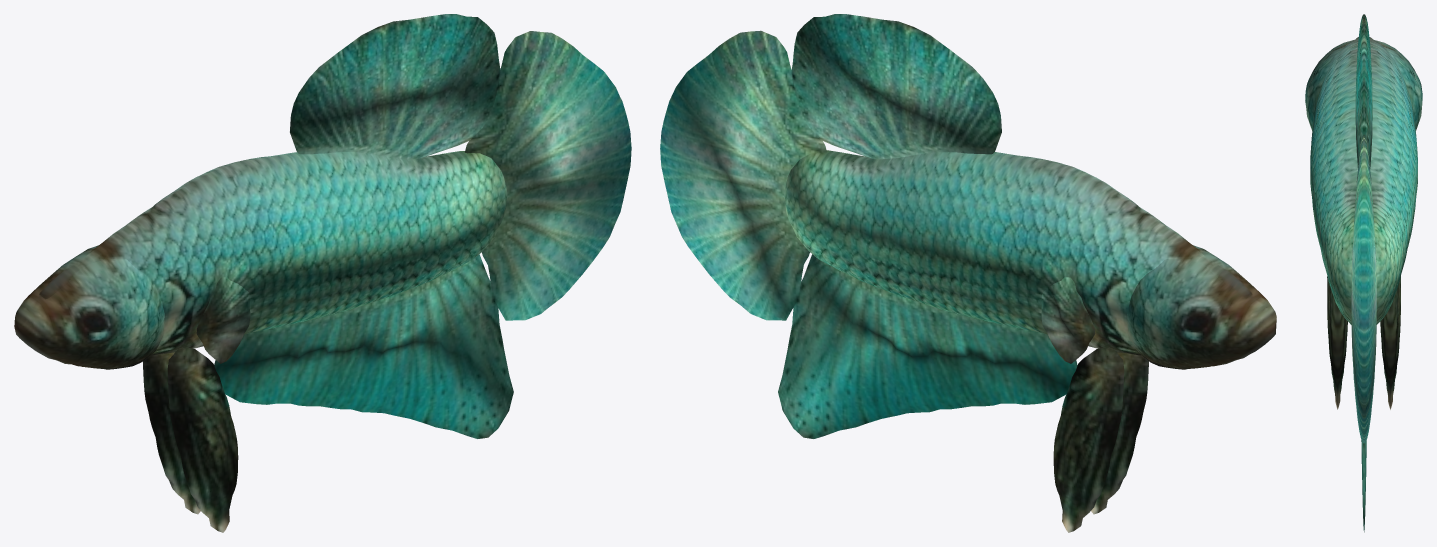
File: blue_betta.glb
The picture shows the model from 3 angles, left to right: view 1: azimuth 30°, elevation 25°; view 2: azimuth 150°, elevation 25°; view 3: azimuth 270°, elevation 25°; orthographic projection. The views are drawn at different scales.
Parts seen in each view (by area): view 1: Object_2; view 2: Object_2; view 3: Object_2.
Boxes of the visible parts, left/top/right/bottom form: Object_2: left=14, top=14, right=631, bottom=532; Object_2: left=660, top=14, right=1276, bottom=532; Object_2: left=1305, top=14, right=1422, bottom=532.
Size of the model in its own units: 145 by 104 by 23.06.
Materials: 1 (1 with a texture image).
